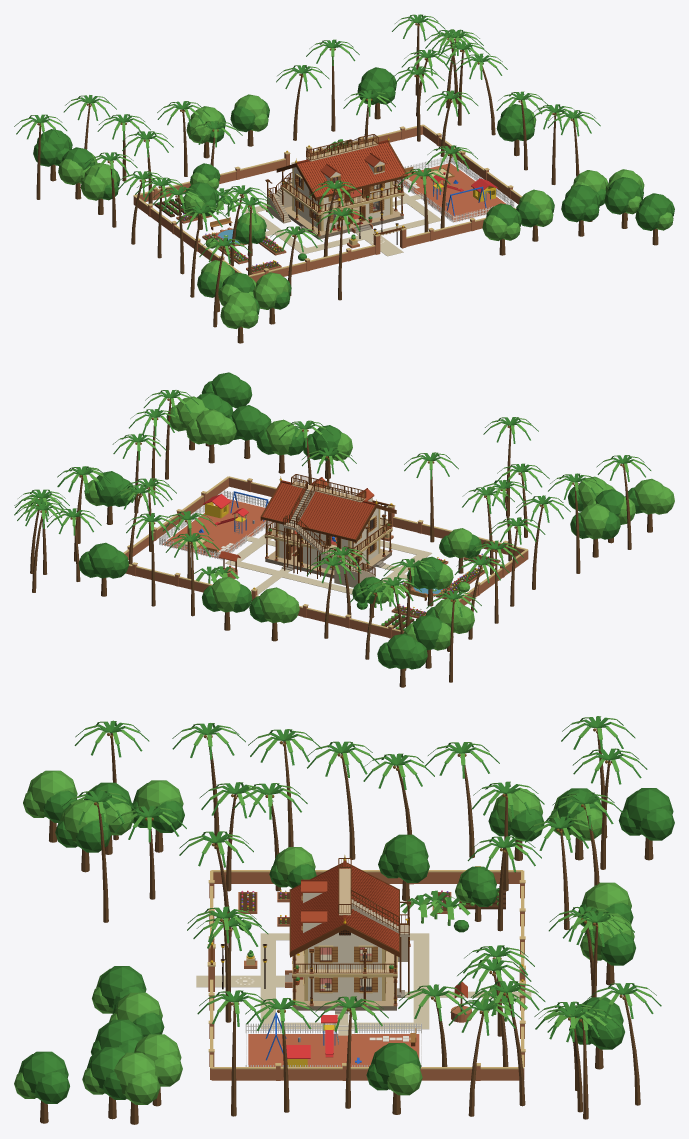
File: house.glb
The picture shows the model from 3 angles, top to bottom: view 1: azimuth 30°, elevation 25°; view 2: azimuth 150°, elevation 25°; view 3: azimuth 270°, elevation 25°; orthographic projection. The views are drawn at different scales.
Parts seen in each view (by area): view 1: House_roof.c0_-1, WALK_rubber.c2_-1, House_leaf.c4_0, House_timber.c0_-1, House_leaf.c4_-4, House_leaf.c3_-4, House_leaf.c-5_4, House_leaf2.c-5_2, House_stone.c-2_-3, House_leaf2.c-6_-5, House_leaf2.c-5_-5, House_leaf.c-5_-4 (+24 smaller); view 2: House_roof.c0_0, WALK_rubber.c2_-1, House_timber.c0_0, House_leaf.c-5_4, House_leaf2.c4_-3, House_leaf.c3_-4, House_leaf2.c-5_2, House_leaf2.c-6_-5, House_leaf.c4_-5, House_leaf2.c-5_-3, House_roof2.c-1_0, House_leaf.c4_0 (+27 smaller); view 3: WALK_rubber.c2_-1, House_stone.c3_0, House_roof.c0_0, House_roof.c0_-1, House_leaf.c5_-5, House_leaf.c-5_4, House_walls.c0_0, House_leaf.c4_0, House_stone.c-4_0, House_leaf2.c5_-4, House_leaf2.c4_-3, WALK_floor2.c0_0 (+48 smaller).
Part boxes in pixels (bbox=[...]): House_roof.c0_-1: bbox=[298, 142, 406, 196]; WALK_rubber.c2_-1: bbox=[399, 163, 505, 221]; House_leaf.c4_0: bbox=[496, 92, 542, 141]; House_timber.c0_-1: bbox=[311, 137, 408, 221]; House_leaf.c4_-4: bbox=[588, 177, 639, 217]; House_leaf.c3_-4: bbox=[547, 184, 598, 222]; House_leaf.c-5_4: bbox=[33, 100, 71, 166]; House_leaf2.c-5_2: bbox=[80, 152, 117, 200]; House_stone.c-2_-3: bbox=[250, 246, 375, 282]; House_leaf2.c-6_-5: bbox=[220, 291, 252, 328]; House_leaf2.c-5_-5: bbox=[239, 278, 279, 328]; House_leaf.c-5_-4: bbox=[206, 238, 255, 297]; House_roof.c0_0: bbox=[262, 483, 374, 539]; WALK_rubber.c2_-1: bbox=[163, 499, 270, 558]; House_timber.c0_0: bbox=[260, 474, 355, 573]; House_leaf.c-5_4: bbox=[378, 592, 433, 669]; House_leaf2.c4_-3: bbox=[183, 403, 232, 445]; House_leaf.c3_-4: bbox=[232, 405, 271, 440]; House_leaf2.c-5_2: bbox=[434, 562, 485, 633]; House_leaf2.c-6_-5: bbox=[639, 479, 674, 514]; House_leaf.c4_-5: bbox=[215, 372, 252, 408]; House_leaf2.c-5_-3: bbox=[556, 473, 609, 539]; House_roof2.c-1_0: bbox=[310, 494, 369, 538]; House_leaf.c4_0: bbox=[96, 434, 148, 506]; WALK_rubber.c2_-1: bbox=[248, 1034, 419, 1066]; House_stone.c3_0: bbox=[211, 1066, 519, 1080]; House_roof.c0_0: bbox=[346, 864, 398, 950]; House_roof.c0_-1: bbox=[291, 864, 343, 950]; House_leaf.c5_-5: bbox=[21, 1052, 69, 1103]; House_leaf.c-5_4: bbox=[615, 736, 674, 840]; House_walls.c0_0: bbox=[325, 932, 381, 1000]; House_leaf.c4_0: bbox=[339, 996, 415, 1090]; House_stone.c-4_0: bbox=[213, 872, 520, 883]; House_leaf2.c5_-4: bbox=[85, 1054, 150, 1104]; House_leaf2.c4_-3: bbox=[142, 1034, 182, 1086]; WALK_floor2.c0_0: bbox=[292, 868, 396, 973].
Bounding box in the file's own units: 67.23 × 12.53 × 59.56.
